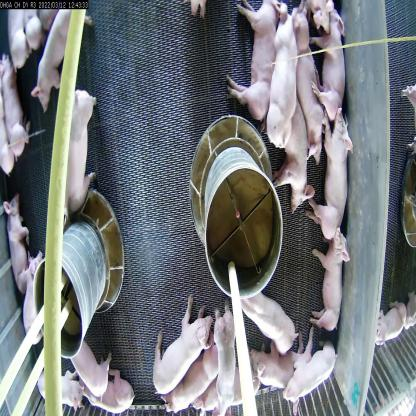Pig: (221, 0, 276, 130), (33, 4, 85, 125), (151, 298, 209, 394), (239, 261, 297, 355), (314, 105, 354, 240), (58, 89, 96, 225), (297, 4, 328, 166), (272, 85, 310, 210), (313, 11, 352, 132), (31, 339, 91, 415), (204, 288, 238, 416), (270, 4, 295, 149), (76, 359, 138, 413), (3, 53, 30, 176), (321, 228, 351, 325), (284, 342, 335, 398), (0, 184, 27, 289), (171, 342, 218, 401), (19, 251, 49, 340), (64, 326, 106, 385), (212, 370, 268, 414), (262, 339, 297, 393)
